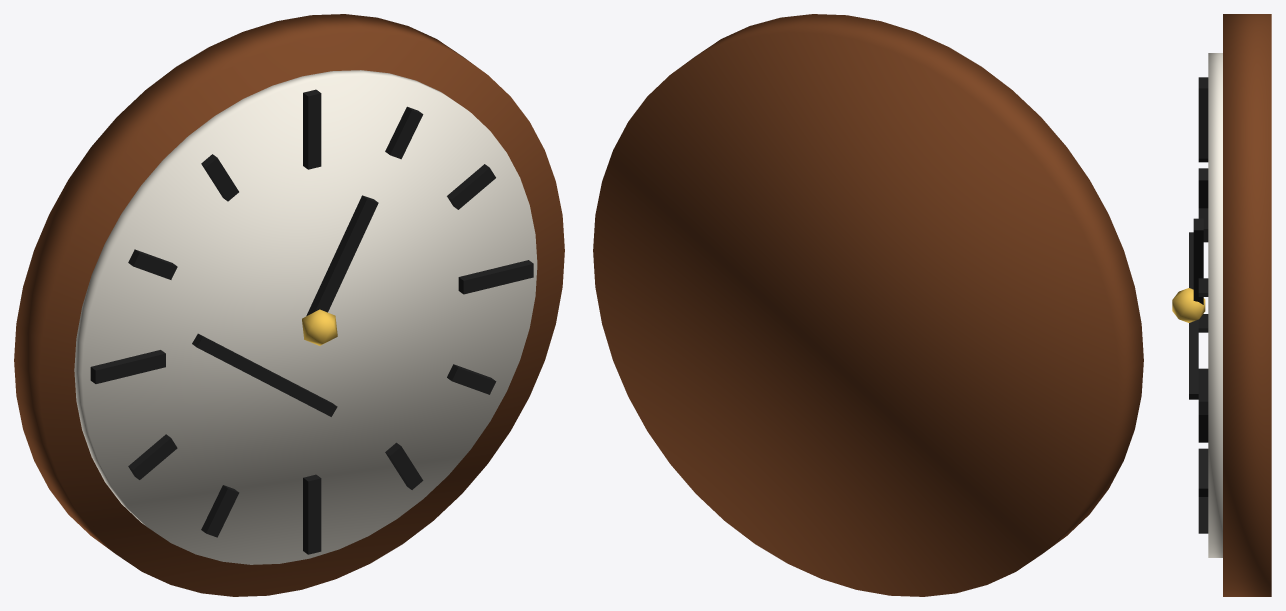
Rendered from orologio.glb.
3 views of the same model, side by side, from view 1: azimuth 30°, elevation 25°; view 2: azimuth 150°, elevation 25°; view 3: azimuth 270°, elevation 25° (orthographic). The views are drawn at different scales.
Parts seen in each view (by area): view 1: Cylinder.001, Cylinder, Cube.012, Cube.013, Cube, Cube.006, Cube.009, Cube.003, Icosphere, Cube.007, Cube.001, Cube.002 (+5 smaller); view 2: Cylinder; view 3: Cylinder, Cylinder.001, Cube.013, Cube, Cube.012, Icosphere, Cube.004, Cube.003, Cube.001, Cube.005, Cube.007, Cube.009 (+2 smaller).
Boxes of the visible parts, left/top/right/bottom form: Cylinder.001: left=74, top=70, right=537, bottom=564; Cylinder: left=14, top=14, right=564, bottom=596; Cube.012: left=306, top=195, right=378, bottom=315; Cube.013: left=192, top=333, right=337, bottom=416; Cube: left=303, top=89, right=321, bottom=169; Cube.006: left=303, top=474, right=321, bottom=554; Cube.009: left=90, top=350, right=165, bottom=383; Cube.003: left=458, top=260, right=533, bottom=294; Icosphere: left=302, top=309, right=337, bottom=345; Cube.007: left=201, top=485, right=239, bottom=537; Cube.001: left=385, top=106, right=423, bottom=159; Cube.002: left=447, top=164, right=495, bottom=209; Cylinder: left=593, top=14, right=1143, bottom=596; Cylinder: left=1223, top=14, right=1271, bottom=596; Cylinder.001: left=1208, top=53, right=1222, bottom=557; Cube.013: left=1189, top=232, right=1198, bottom=399; Cube: left=1198, top=82, right=1208, bottom=158; Cube.012: left=1193, top=218, right=1203, bottom=304; Icosphere: left=1172, top=288, right=1205, bottom=322; Cube.004: left=1198, top=448, right=1208, bottom=496; Cube.003: left=1198, top=368, right=1208, bottom=414; Cube.001: left=1198, top=168, right=1208, bottom=208; Cube.005: left=1198, top=497, right=1208, bottom=533; Cube.007: left=1198, top=415, right=1208, bottom=442; Cube.009: left=1198, top=208, right=1208, bottom=242.
Bounding box in the file's own units: 0.6 × 0.6 × 0.102.
